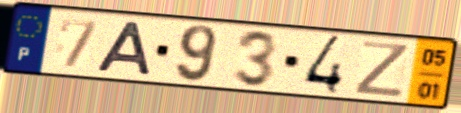3: (234, 29, 282, 89)
4: (301, 33, 347, 98)
7: (57, 17, 99, 69)
9: (171, 23, 223, 84)
A: (93, 19, 155, 78)
Z: (351, 38, 412, 99)
